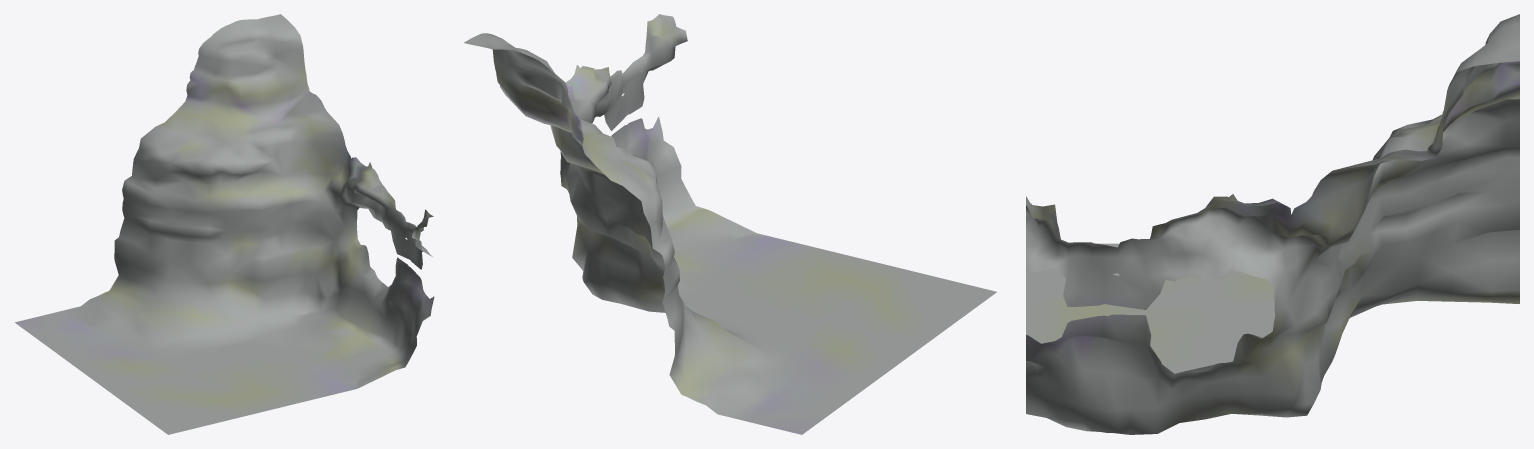
3 renders of one model, left to right at view 1: azimuth 30°, elevation 25°; view 2: azimuth 150°, elevation 25°; view 3: azimuth 270°, elevation 25°, orthographic. The views are drawn at different scales.
Parts seen in each view (by area): view 1: G:\FFXIV-MapTools\exports\y6f2\bg\ex5\02_ykt_y6\fld\y6f2\bgp (×2); view 2: G:\FFXIV-MapTools\exports\y6f2\bg\ex5\02_ykt_y6\fld\y6f2\bgp (×3); view 3: G:\FFXIV-MapTools\exports\y6f2\bg\ex5\02_ykt_y6\fld\y6f2\bgp (×3).
Part boxes in pixels (left/top/right/bottom): G:\FFXIV-MapTools\exports\y6f2\bg\ex5\02_ykt_y6\fld\y6f2\bgp (×2): left=15, top=14, right=434, bottom=434; G:\FFXIV-MapTools\exports\y6f2\bg\ex5\02_ykt_y6\fld\y6f2\bgp (×3): left=464, top=14, right=996, bottom=434; G:\FFXIV-MapTools\exports\y6f2\bg\ex5\02_ykt_y6\fld\y6f2\bgp (×3): left=1026, top=14, right=1519, bottom=434.
Bounding box in the file's own units: 128 × 114 × 128.
